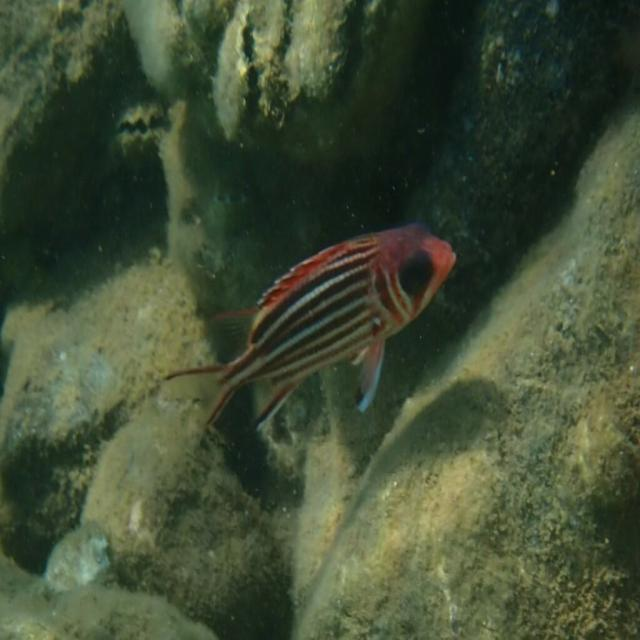Asker Baligi: (155, 199, 466, 441)
